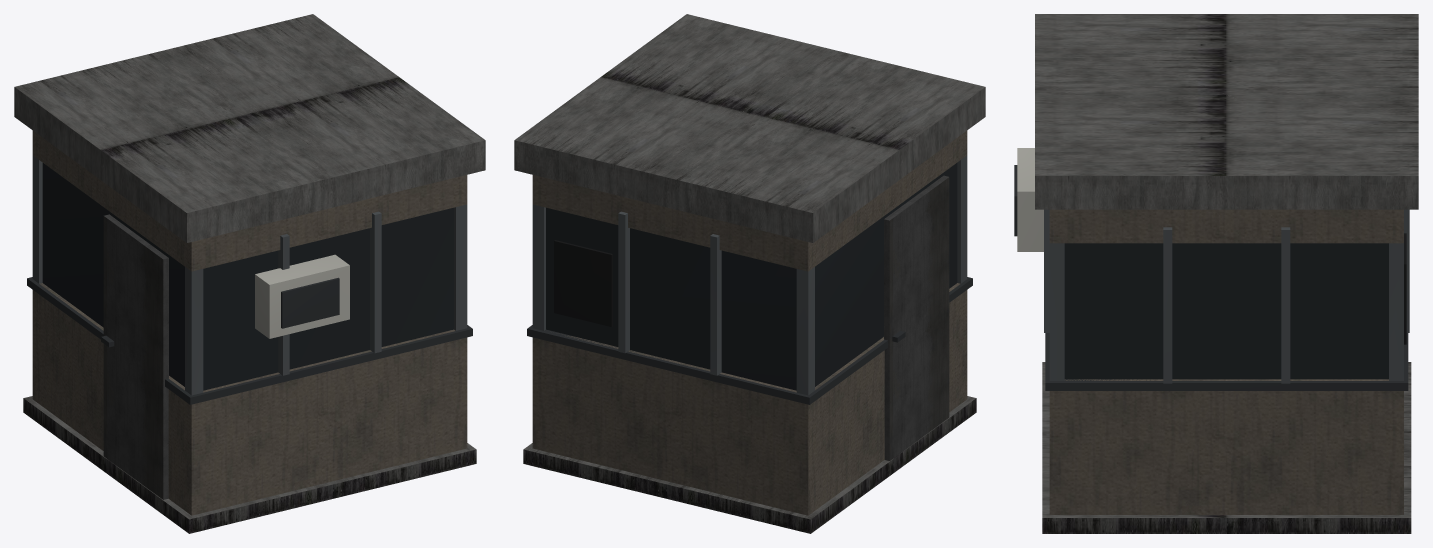
File: guard_booth.glb
The picture shows the model from 3 angles, left to right: view 1: azimuth 30°, elevation 25°; view 2: azimuth 150°, elevation 25°; view 3: azimuth 270°, elevation 25°; orthographic projection. The views are drawn at different scales.
Parts seen in each view (by area): view 1: guard_booth__surface_concrete, guard_booth__surface_stucco, guard_booth, guard_booth__surface_metal; view 2: guard_booth__surface_concrete, guard_booth__surface_stucco, guard_booth, guard_booth__surface_metal; view 3: guard_booth__surface_concrete, guard_booth, guard_booth__surface_stucco.
Part boxes in pixels (x1,y1,x2,y2): guard_booth__surface_concrete: [14, 14, 485, 533]; guard_booth__surface_stucco: [32, 130, 467, 515]; guard_booth: [27, 155, 472, 404]; guard_booth__surface_metal: [103, 214, 168, 499]; guard_booth__surface_concrete: [514, 14, 985, 533]; guard_booth__surface_stucco: [532, 130, 967, 515]; guard_booth: [527, 155, 972, 404]; guard_booth__surface_metal: [884, 175, 949, 460]; guard_booth__surface_concrete: [1035, 14, 1418, 533]; guard_booth: [1014, 148, 1409, 390]; guard_booth__surface_stucco: [1049, 209, 1403, 514].
Size of the model in its own units: 2.6 by 2.7 by 2.74.
Materials: 4 (3 with a texture image).
